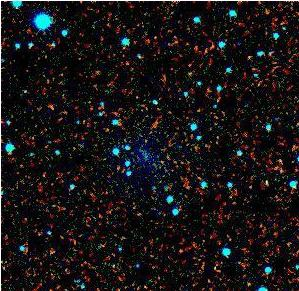star: (233, 38, 263, 68)
